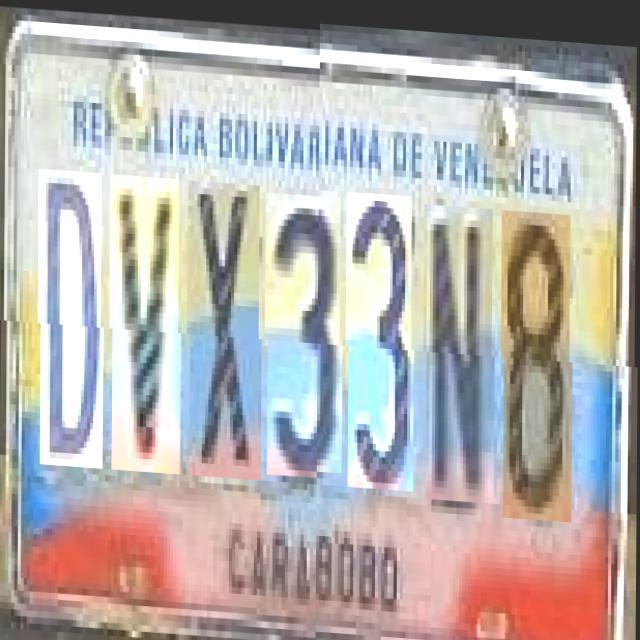3: (268, 188, 344, 474), (348, 194, 415, 492)
8: (504, 209, 574, 520)
D: (40, 169, 104, 467)
N: (426, 205, 496, 502)
V: (112, 173, 182, 471)
X: (190, 178, 263, 477)
